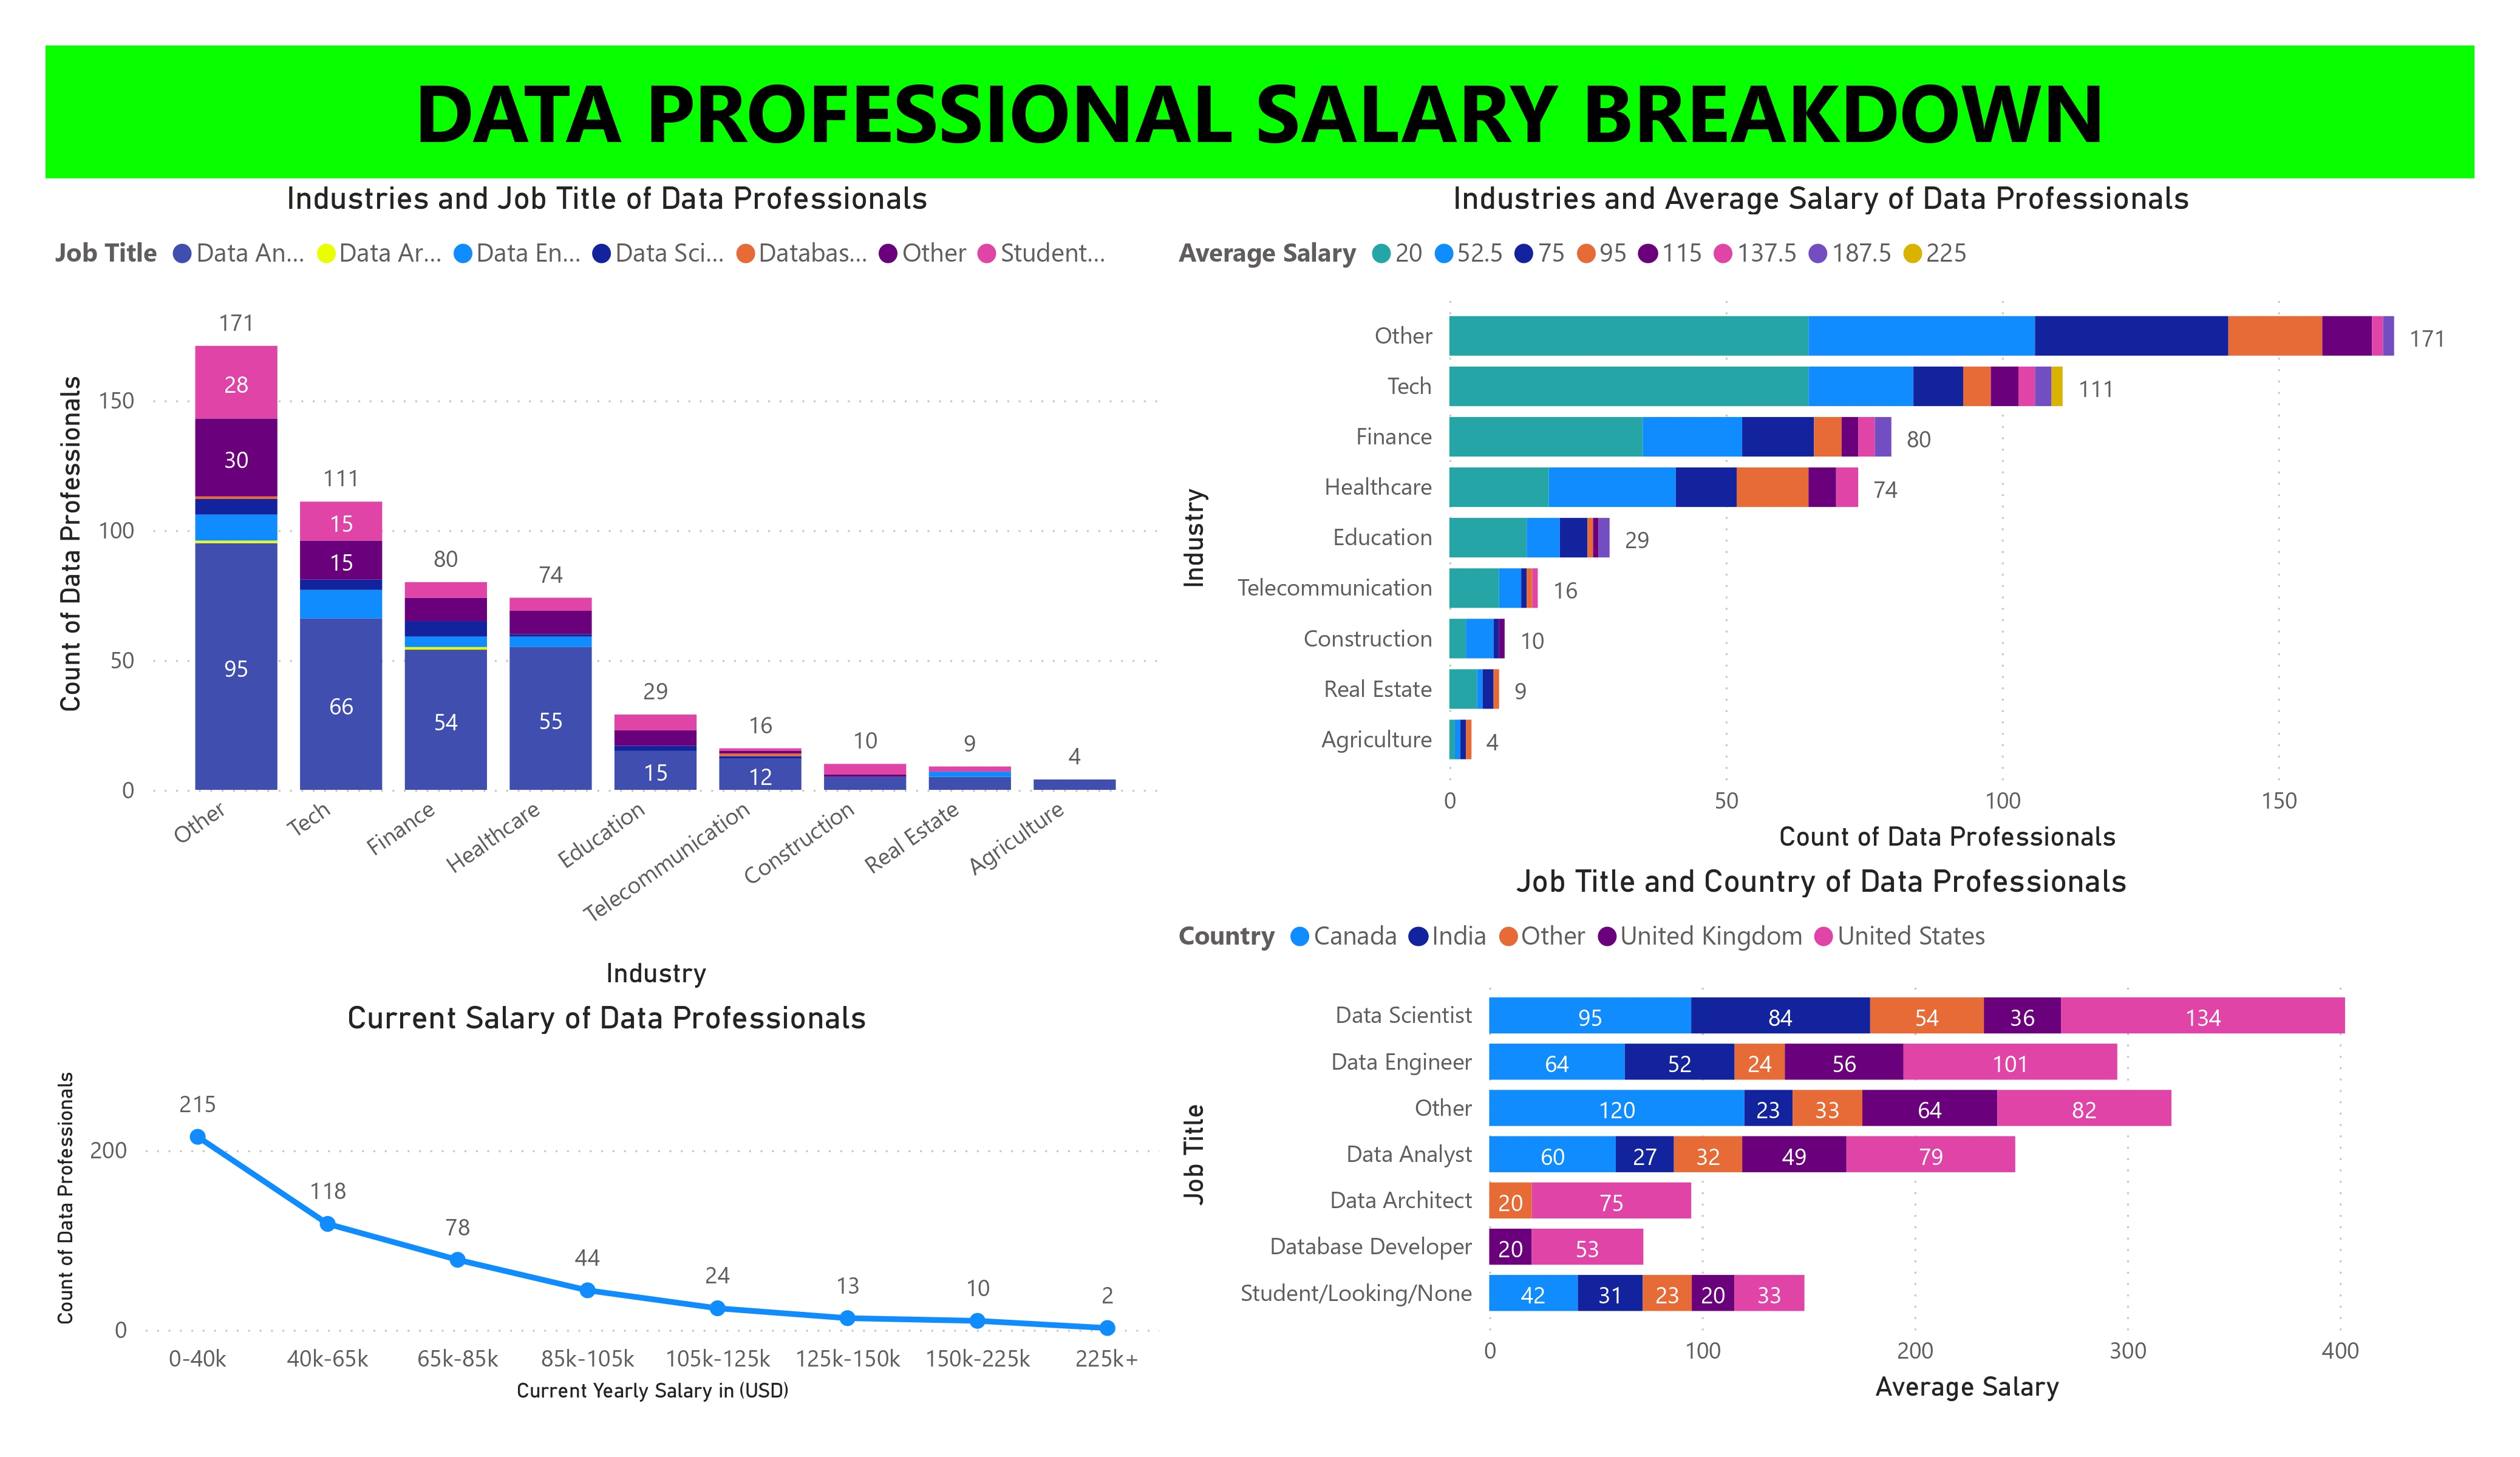

The dashboard page shown, as its layout file describes it:
{"tool":"powerbi","page":{"name":"Page 2","canvas":[1280,720],"ordinal":1},"visuals":[{"type":"barChart","title":"Job Title and Country of Data Professionals","fields":{"Category":["Data Professional Survey.Q1 - Which Title Best Fits your Current Role?.1"],"Y":["Avg(Data Professional Survey.Average Salary)"],"Series":["Data Professional Survey.Q11 - Which Country do you live in?.1"]},"box":[591.6,430.3,688.2,289.7],"z":0},{"type":"barChart","title":"Industries and Average Salary of Data Professionals","fields":{"Category":["Data Professional Survey.Q4 - What Industry do you work in?.1"],"Y":["CountNonNull(Data Professional Survey.Unique ID)"],"Series":["Data Professional Survey.Average Salary"]},"box":[591.6,69.7,688.2,360.6],"z":1000},{"type":"columnChart","title":"Industries and Job Title of Data Professionals","fields":{"Y":["CountNonNull(Data Professional Survey.Unique ID)"],"Category":["Data Professional Survey.Q4 - What Industry do you work in?.1"],"Series":["Data Professional Survey.Q1 - Which Title Best Fits your Current Role?.1"]},"box":[0,69.7,591.6,432.7],"z":2000},{"type":"lineChart","title":"Current Salary of Data Professionals","fields":{"Category":["Data Professional Survey.Q3 - Current Yearly Salary (in USD)"],"Y":["CountNonNull(Data Professional Survey.Unique ID)"]},"box":[0,502.4,591.6,217.6],"z":3000},{"type":"textbox","box":[0,0,1280,70],"z":4000}]}

Visuals, with their boxes in screenshot pixels (x1, y1, x2, y2):
"Job Title and Country of Data Professionals" barChart: 1168/862/2474/1411
"Industries and Average Salary of Data Professionals" barChart: 1168/178/2474/862
"Industries and Job Title of Data Professionals" columnChart: 46/178/1168/999
"Current Salary of Data Professionals" lineChart: 46/999/1168/1411
textbox: 46/46/2474/178
